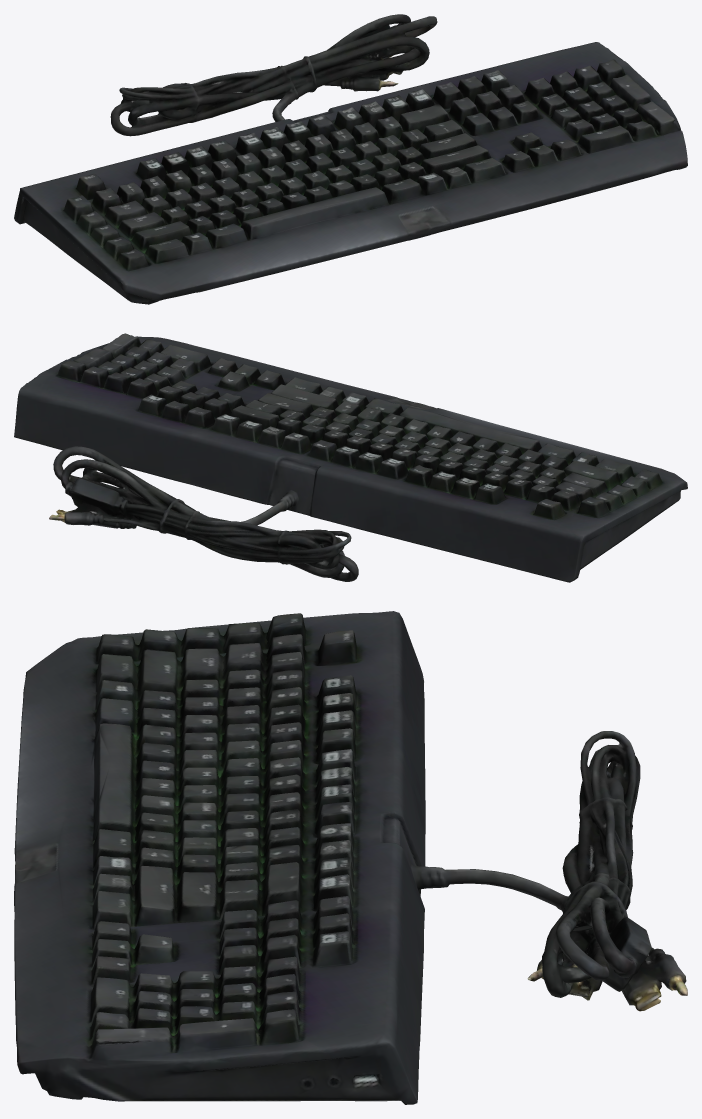
Rendered from Razer_BlackWidow_Ultimate_2014_Mechanical_Gaming_Keyboard.glb.
The picture shows the model from 3 angles, top to bottom: view 1: azimuth 30°, elevation 25°; view 2: azimuth 150°, elevation 25°; view 3: azimuth 270°, elevation 25°; orthographic projection. The views are drawn at different scales.
Visible parts, largest first — view 1: model.obj; view 2: model.obj; view 3: model.obj.
Boxes of the visible parts, x1,y1,x2,y2 form: model.obj: (14,14,687,304); model.obj: (14,333,687,582); model.obj: (14,611,687,1104).
Bounding box in the file's own units: 1 × 0.103 × 0.6355.
Materials: 1 (1 with a texture image).
